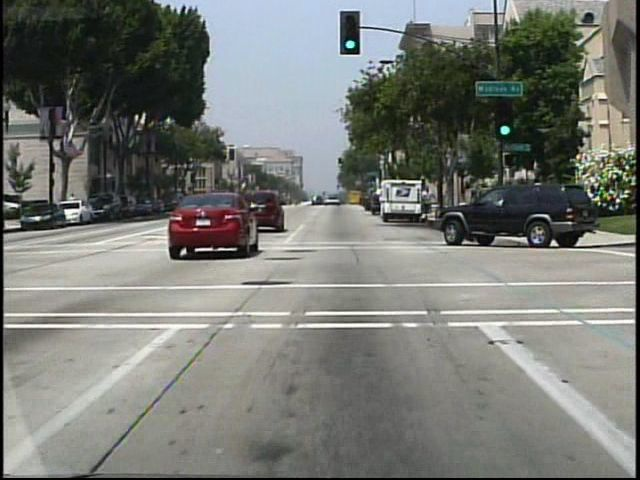person: (422, 186, 435, 220), (69, 191, 81, 216), (362, 191, 374, 214)
